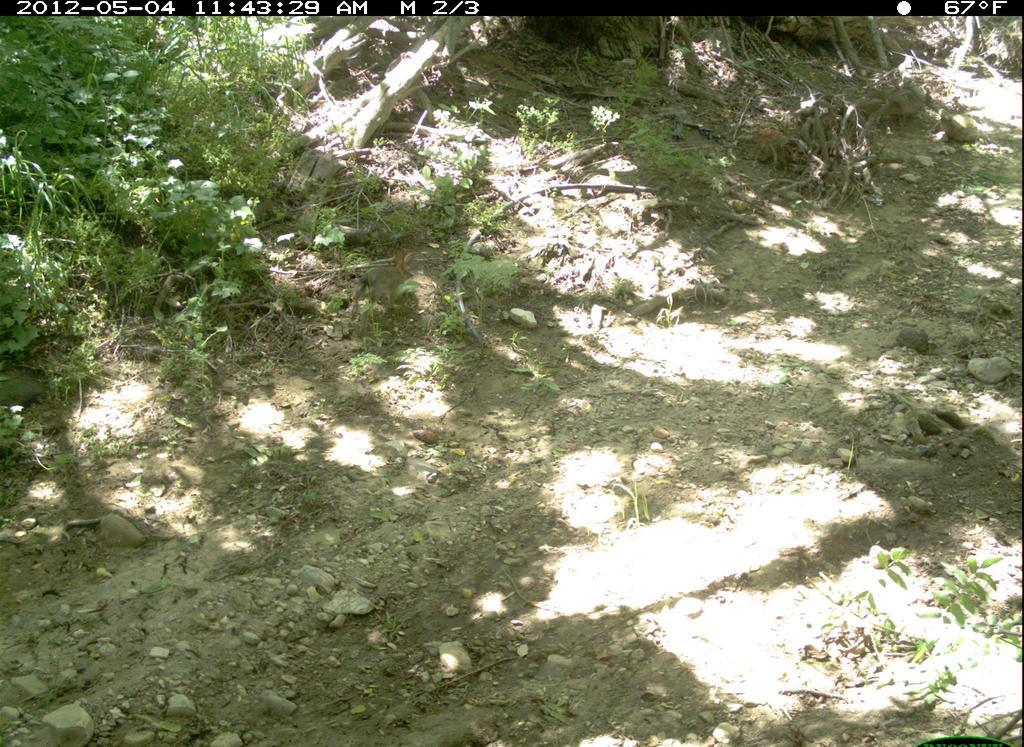rabbit: (343, 244, 427, 347)
